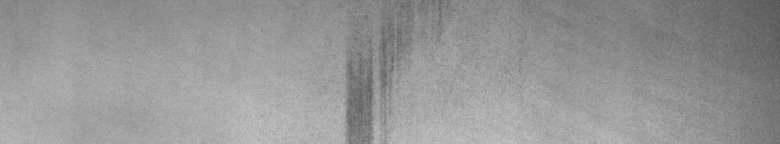ka: (339, 28, 404, 136)
